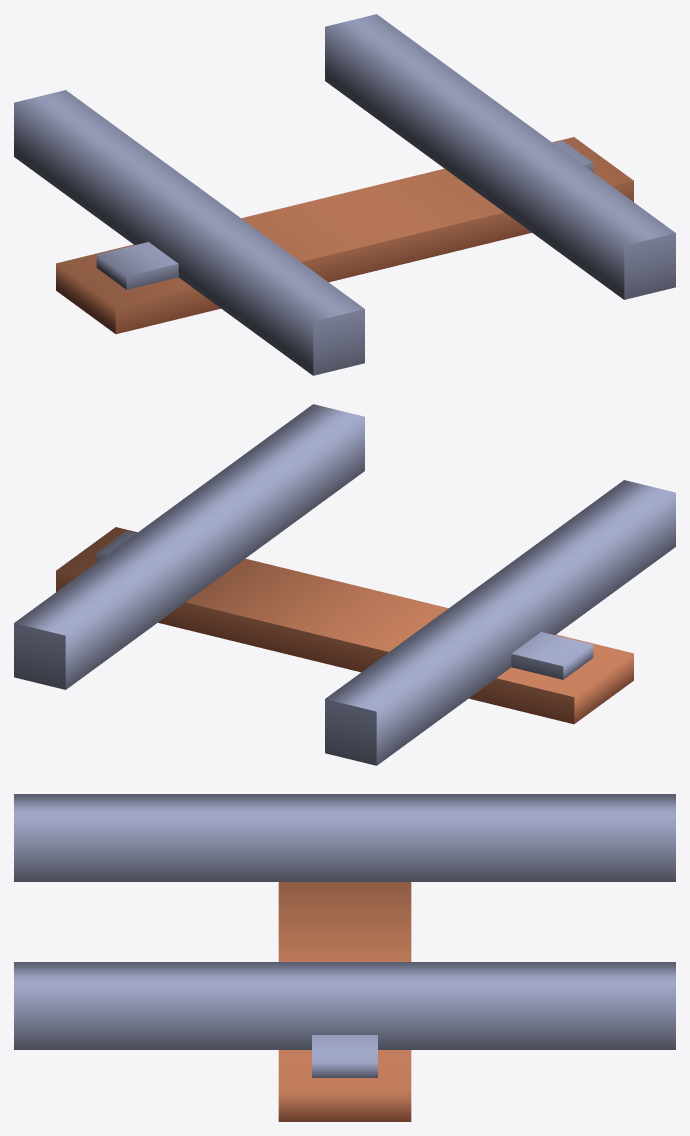
Rendered from track-single-detailed.glb.
The picture shows the model from 3 angles, top to bottom: view 1: azimuth 30°, elevation 25°; view 2: azimuth 150°, elevation 25°; view 3: azimuth 270°, elevation 25°; orthographic projection. The views are drawn at different scales.
Visible parts, largest first — view 1: track-single-detailed; view 2: track-single-detailed; view 3: track-single-detailed.
Boxes of the visible parts, bbox=[...] form: track-single-detailed: bbox=[14, 14, 675, 375]; track-single-detailed: bbox=[14, 404, 675, 765]; track-single-detailed: bbox=[14, 794, 675, 1121].
Size of the model in its own units: 1 by 0.15 by 1.
